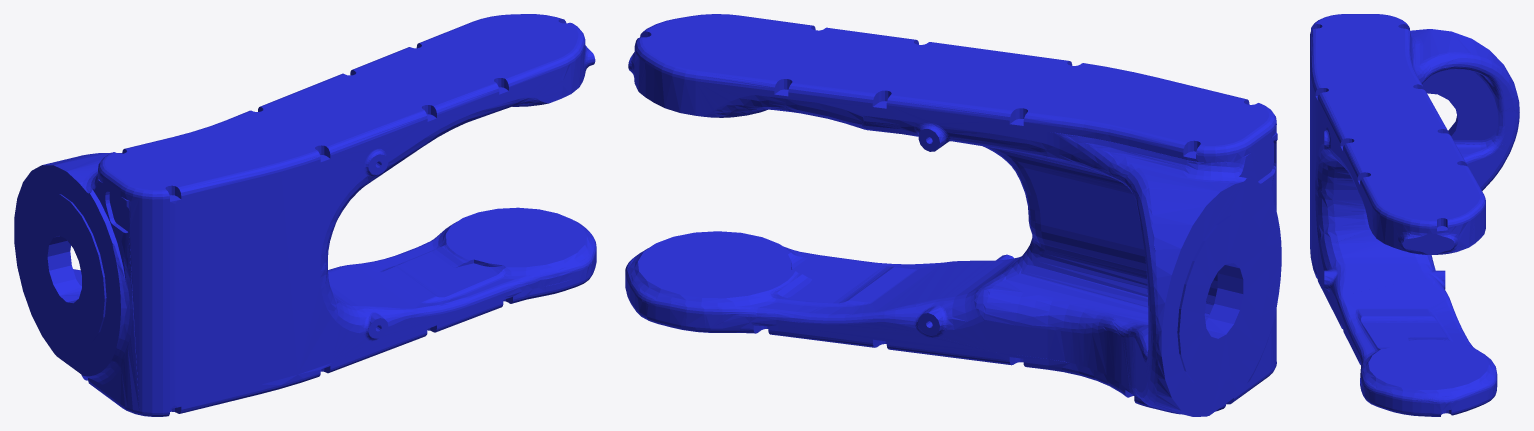
3 renders of one model, left to right at view 1: azimuth 30°, elevation 25°; view 2: azimuth 150°, elevation 25°; view 3: azimuth 270°, elevation 25°, orthographic. The views are drawn at different scales.
Parts seen in each view (by area): view 1: /Link4/Link4-mesh/0; view 2: /Link4/Link4-mesh/0; view 3: /Link4/Link4-mesh/0.
Part boxes in pixels (x1,y1,x2,y2): /Link4/Link4-mesh/0: (14, 14, 596, 416); /Link4/Link4-mesh/0: (625, 14, 1281, 416); /Link4/Link4-mesh/0: (1310, 14, 1519, 416).
Bounding box in the file's own units: 0.4339 × 0.1795 × 0.177.
